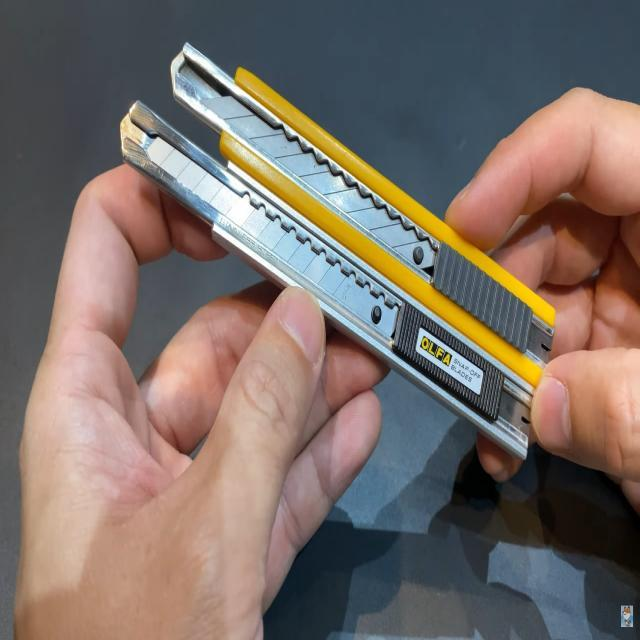cutter: (61, 0, 639, 572)
